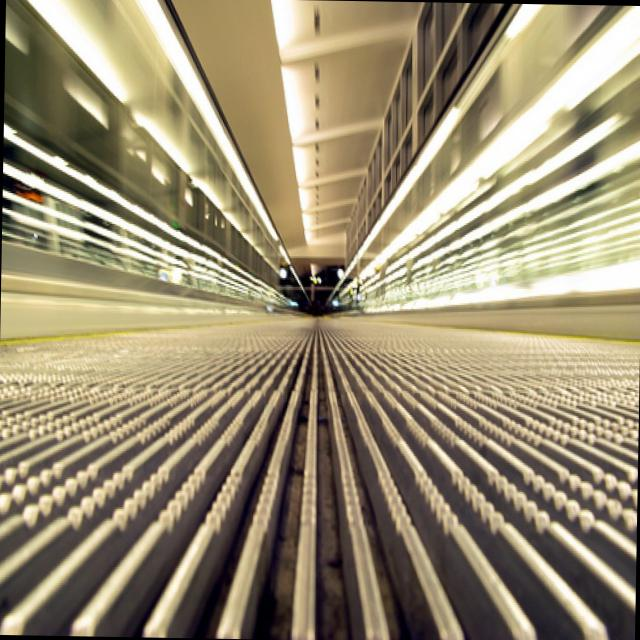ceiling beam: (166, 0, 424, 249)
floor -X: (0, 302, 638, 640)
wall clock: (342, 2, 640, 338), (2, 0, 287, 336), (287, 238, 343, 312)
